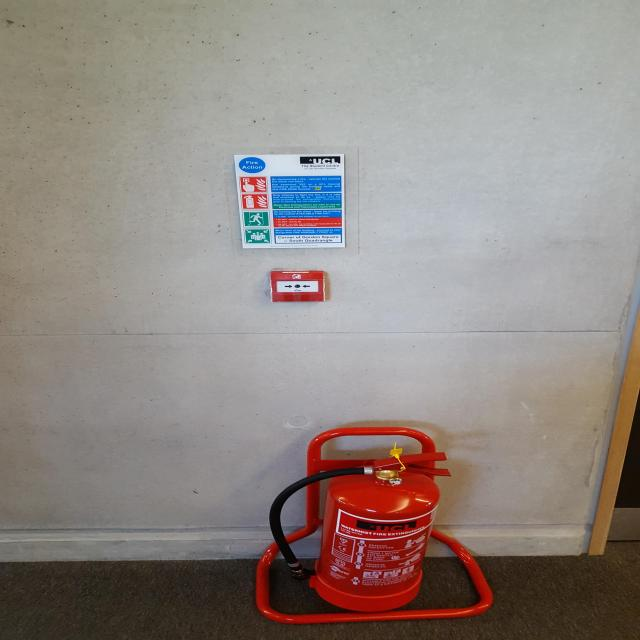fire_extinguisher: (264, 449, 457, 615)
